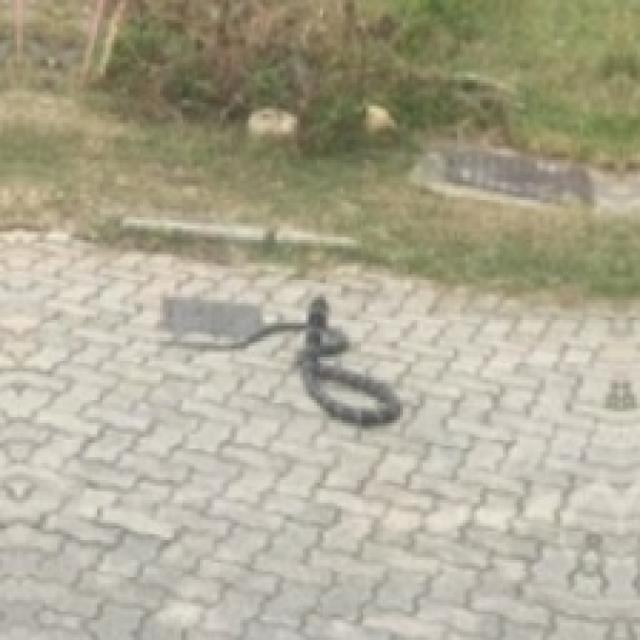king cobra: (163, 294, 400, 423)
